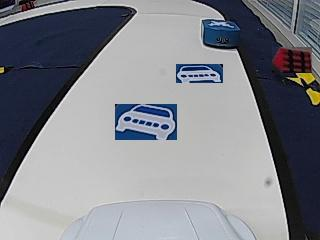prop: (201, 19, 240, 49)
